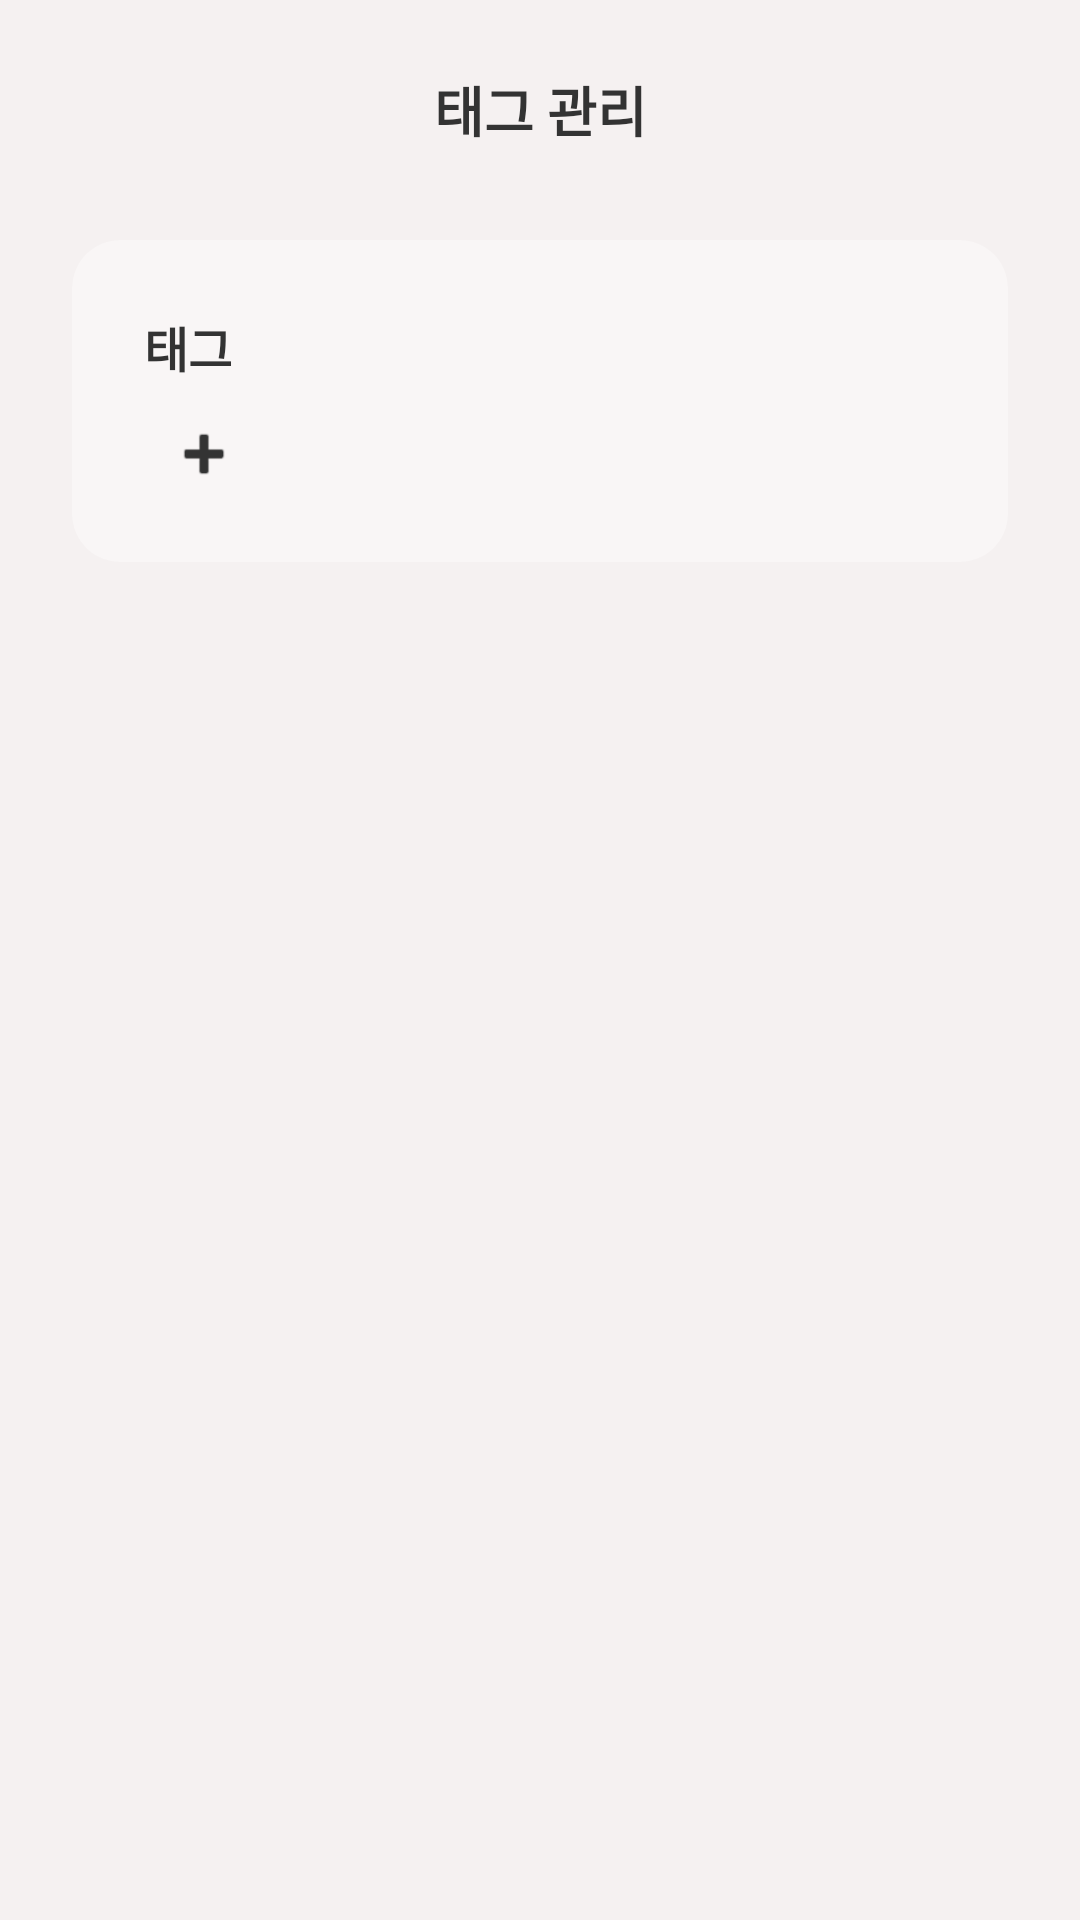

Icon bounding boxes for this 1080px x 1920px phone screenshot, format {"x1": x1, "y1": y1, "x2": x2, "y2": y2}:
add: {"x1": 184, "y1": 434, "x2": 224, "y2": 474}
